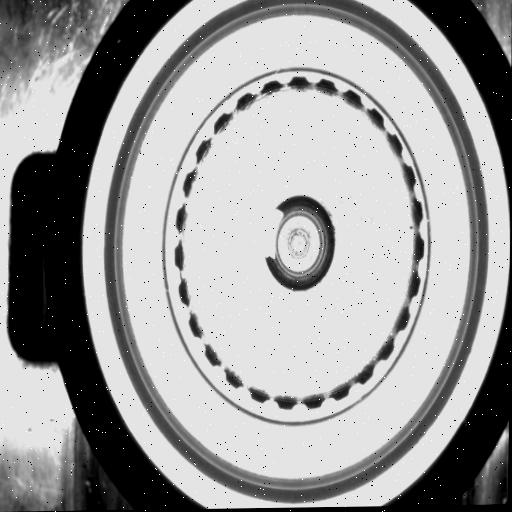gear: (172, 75, 427, 411)
